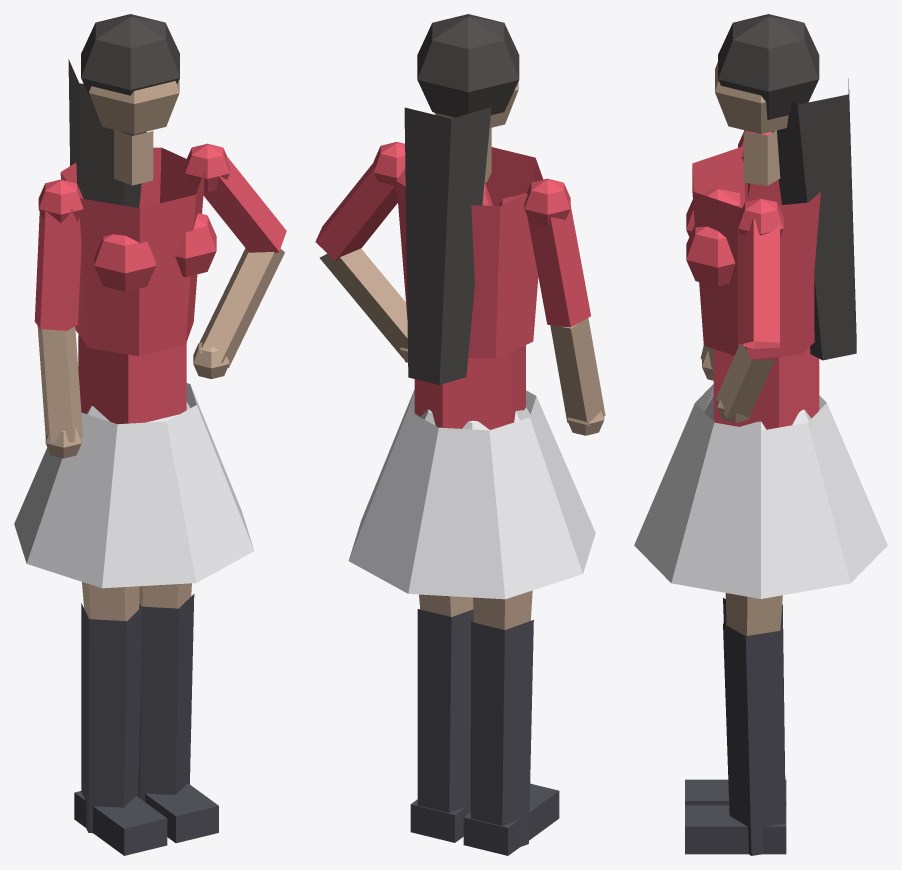
The model's file is angel_hip.glb.
3 renders of one model, left to right at view 1: azimuth 30°, elevation 25°; view 2: azimuth 150°, elevation 25°; view 3: azimuth 270°, elevation 25°, orthographic. The views are drawn at different scales.
Visible parts, largest first — view 1: angel_hip; view 2: angel_hip; view 3: angel_hip.
Boxes of the visible parts, left/top/right/bottom form: angel_hip: left=14, top=14, right=286, bottom=855; angel_hip: left=315, top=14, right=605, bottom=855; angel_hip: left=634, top=14, right=887, bottom=855.
Size of the model in its own units: 0.5679 by 1.68 by 0.475.
